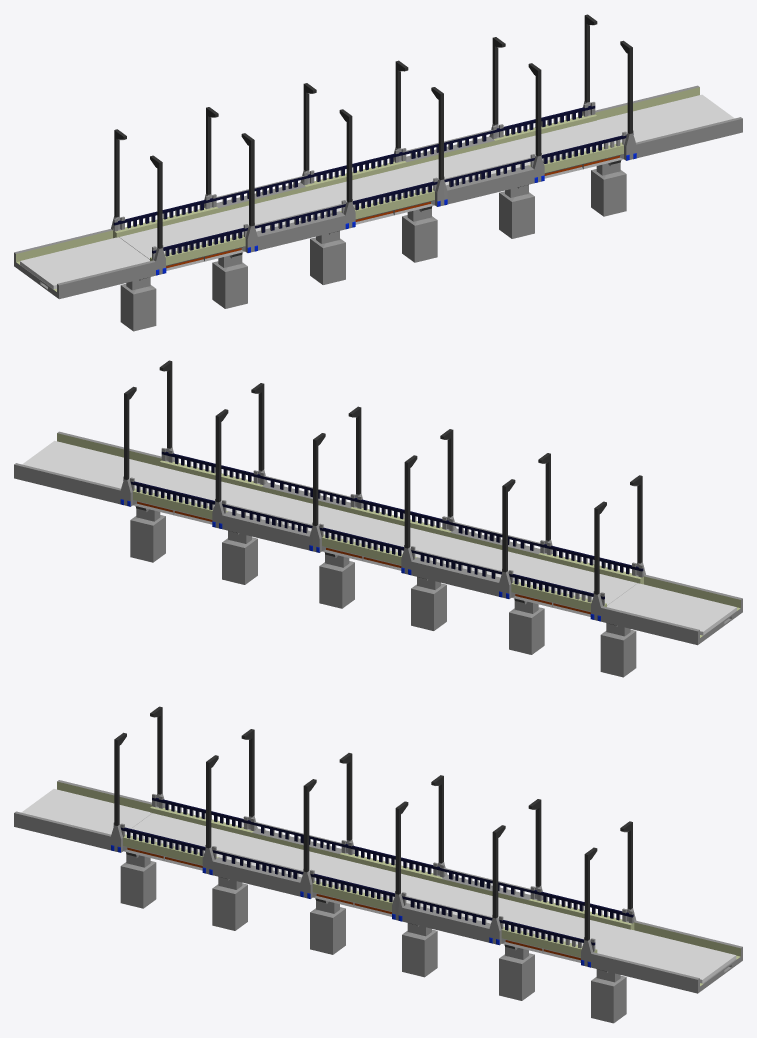
Rendered from bridge.glb.
The picture shows the model from 3 angles, top to bottom: view 1: azimuth 30°, elevation 25°; view 2: azimuth 150°, elevation 25°; view 3: azimuth 330°, elevation 25°; orthographic projection.
Parts seen in each view (by area): view 1: Cube.000, Cube.003, Cube.006, Cube.008, Cube.009, Cube.007, Cube.002, Cube.005, Cube.004, Cube.001, Pilone4, Pilone6 (+9 smaller); view 2: Cube.003, Cube.000, Cube.006, Cube.008, Cube.009, Cube.004, Cube.002, Cube.001, Cube.005, Cube.007; view 3: Cube.000, Cube.003, Cube.006, Cube.009, Cube.008, Cube.005, Cube.007, Cube.002, Cube.001, Cube.004, Pilone1, Pilone2 (+9 smaller).
Boxes of the visible parts, x1,y1,x2,y2 form: Cube.000: (404,14,742,238); Cube.003: (14,107,345,330); Cube.006: (300,60,447,284); Cube.008: (20,237,149,289); Cube.009: (604,94,734,142); Cube.007: (213,190,338,232); Cube.002: (409,143,530,185); Cube.005: (506,118,622,161); Cube.004: (119,214,243,259); Cube.001: (312,166,433,211); Pilone4: (402,208,437,262); Pilone6: (591,163,626,216); Cube.003: (411,453,742,677); Cube.000: (14,360,351,584); Cube.006: (309,406,456,630); Cube.008: (607,583,736,635); Cube.009: (22,440,152,488); Cube.004: (513,559,637,605); Cube.002: (226,488,346,531); Cube.001: (323,512,445,557); Cube.005: (134,465,249,507); Cube.007: (418,536,538,579); Cube.000: (402,799,742,993); Cube.003: (14,706,341,891); Cube.006: (300,753,447,930); Cube.009: (605,931,736,983); Cube.008: (21,789,152,834); Cube.005: (515,907,637,954); Cube.007: (218,836,344,880); Cube.002: (415,883,538,928); Cube.001: (320,860,441,903); Cube.004: (125,813,245,856); Pilone1: (120,855,156,908); Pilone2: (212,878,247,930).
Size of the model in its own units: 25.6 by 6.36 by 2.96.
